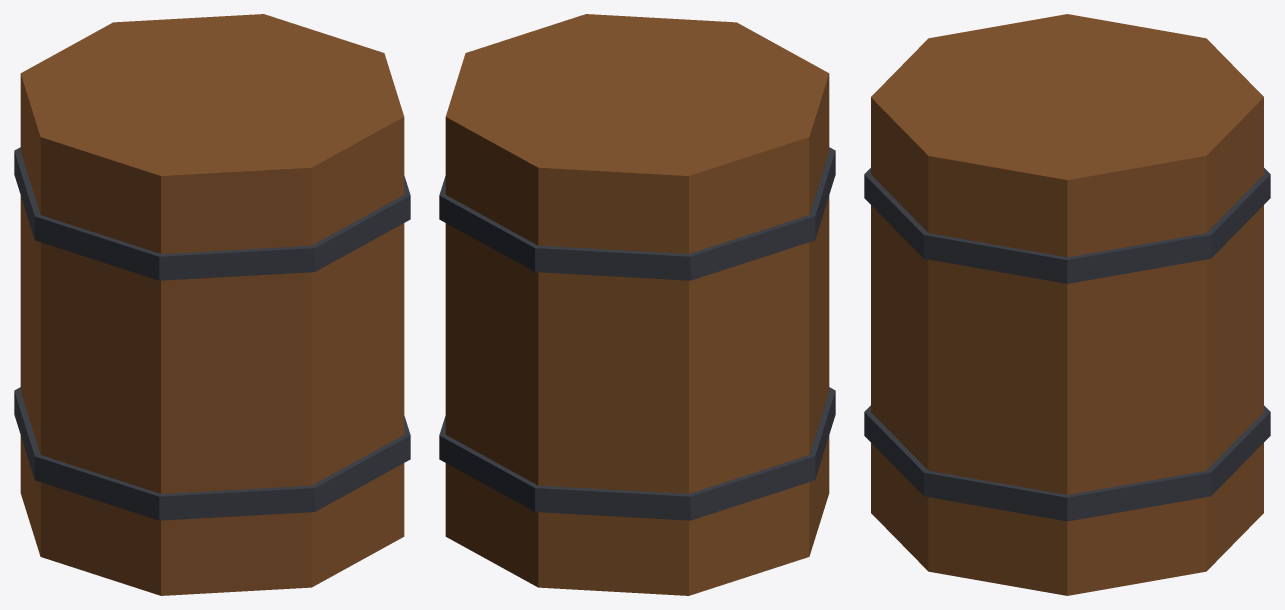
Rendered from wooden_barrel.glb.
The picture shows the model from 3 angles, left to right: view 1: azimuth 30°, elevation 25°; view 2: azimuth 150°, elevation 25°; view 3: azimuth 270°, elevation 25°; orthographic projection.
Parts seen in each view (by area): view 1: wooden_barrel; view 2: wooden_barrel; view 3: wooden_barrel.
Part boxes in pixels (bbox=[...]): wooden_barrel: bbox=[14, 14, 410, 595]; wooden_barrel: bbox=[439, 14, 835, 595]; wooden_barrel: bbox=[864, 14, 1270, 595].
Bounding box in the file's own units: 0.62 × 0.7 × 0.62.
